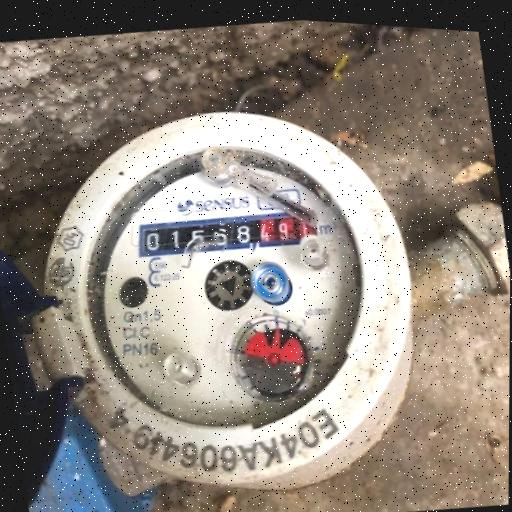0: (142, 224, 165, 255)
1: (165, 222, 186, 251), (296, 214, 314, 240)
4: (257, 217, 278, 243)
5: (186, 222, 207, 248)
6: (210, 219, 232, 248)
8: (232, 218, 255, 245)
9: (276, 216, 297, 241)
border_water_meter_number: (133, 197, 319, 268)
